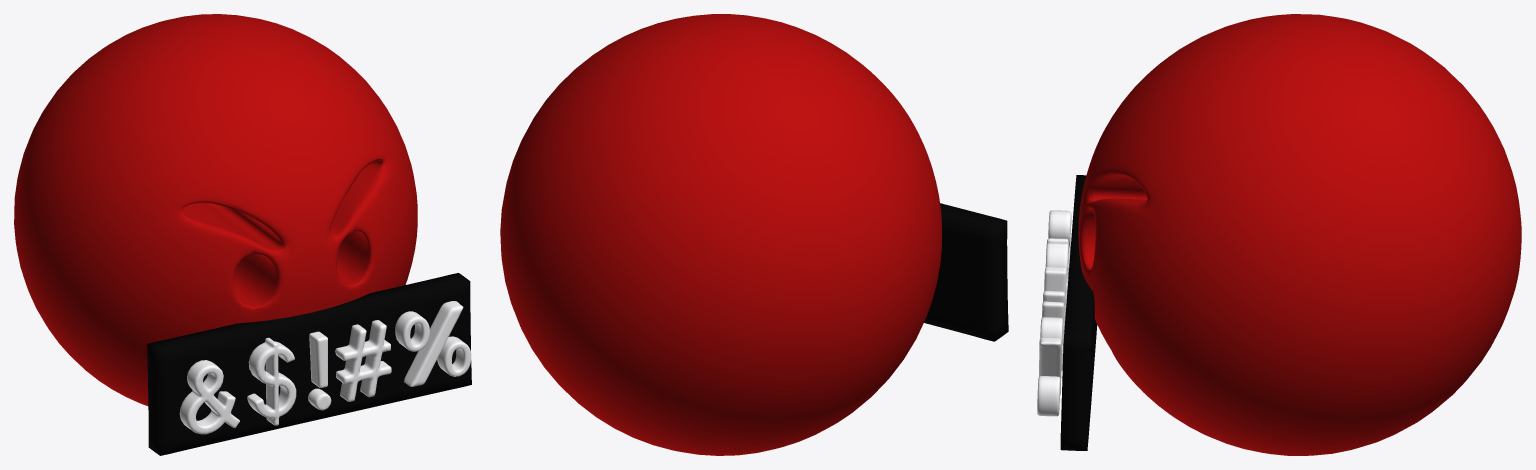
Rendered from serius FBX.FBX.
The picture shows the model from 3 angles, left to right: view 1: azimuth 30°, elevation 25°; view 2: azimuth 150°, elevation 25°; view 3: azimuth 270°, elevation 25°; orthographic projection. The views are drawn at different scales.
Visible parts, largest first — view 1: Group30555, Group44109, Serius3; view 2: Group30555, Group44109; view 3: Group30555, Group44109, Serius3.
Part boxes in pixels (<box>): Group30555: <box>14,14,417,405</box>; Group44109: <box>147,273,471,455</box>; Serius3: <box>179,301,471,434</box>; Group30555: <box>500,14,941,455</box>; Group44109: <box>924,203,1008,341</box>; Group30555: <box>1078,14,1521,455</box>; Group44109: <box>1060,175,1097,450</box>; Serius3: <box>1037,210,1071,416</box>.
Bounding box in the file's own units: 23.95 × 23.98 × 26.28.
